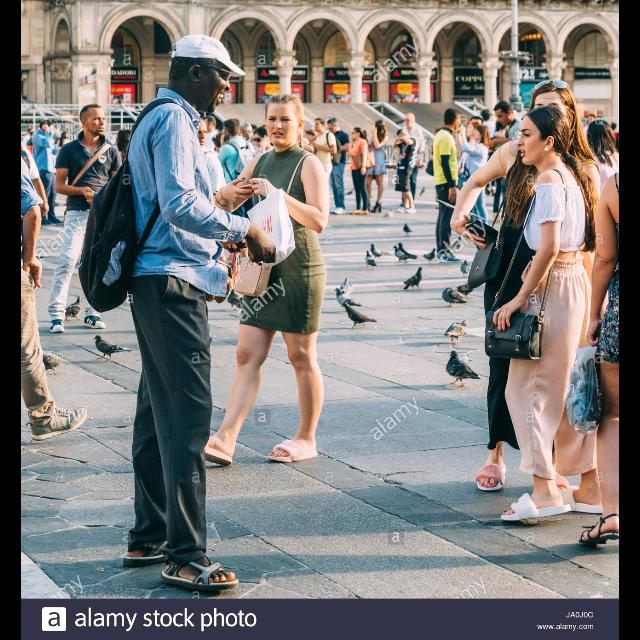head: (168, 34, 234, 114), (518, 108, 568, 166), (530, 81, 578, 140), (266, 94, 306, 148), (80, 105, 108, 137), (183, 117, 209, 149), (21, 102, 41, 140), (588, 120, 614, 148), (222, 118, 242, 142), (496, 101, 514, 127), (445, 108, 463, 132), (252, 126, 270, 148), (116, 130, 132, 148), (466, 120, 480, 138), (204, 116, 218, 134), (474, 126, 490, 140), (240, 123, 253, 139), (397, 129, 411, 143), (405, 113, 417, 129), (328, 119, 340, 135), (22, 125, 31, 144), (374, 120, 386, 134), (352, 128, 364, 142), (315, 118, 327, 132), (306, 130, 318, 142), (40, 120, 52, 132), (500, 120, 512, 130), (482, 111, 492, 121), (436, 126, 446, 136), (589, 114, 597, 124), (28, 128, 34, 136), (611, 123, 617, 129), (63, 132, 69, 138), (30, 131, 36, 137)
person: (74, 31, 286, 596), (447, 76, 603, 500), (178, 90, 332, 468), (482, 101, 614, 526), (21, 96, 105, 446), (46, 102, 124, 336), (164, 114, 230, 324), (485, 98, 541, 255), (210, 116, 260, 268), (431, 106, 469, 266), (22, 124, 54, 310), (104, 127, 142, 259), (454, 124, 494, 246), (245, 125, 283, 238), (451, 120, 485, 242), (30, 119, 66, 228), (306, 115, 344, 218), (193, 112, 224, 218), (398, 110, 428, 210), (325, 116, 355, 216), (490, 118, 518, 222), (361, 118, 391, 215), (347, 126, 378, 217), (392, 127, 422, 215), (425, 123, 451, 211), (474, 107, 498, 197), (234, 119, 258, 201), (578, 112, 602, 188), (302, 127, 322, 200), (54, 130, 74, 180), (604, 122, 620, 168), (26, 130, 38, 170), (22, 128, 34, 168)
